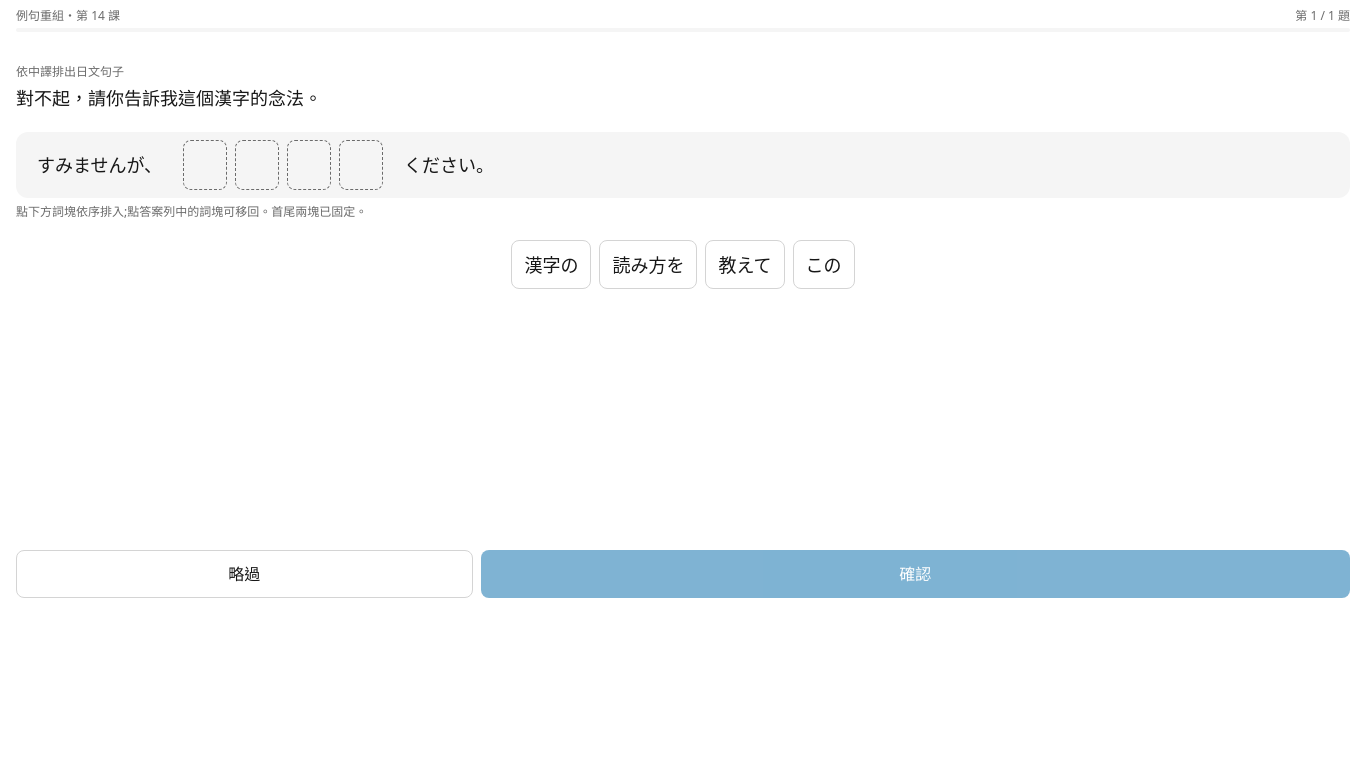
ReorderRunner 題目 › 6 塊以上:首尾兩塊固定在答案列兩端(不可點),只排中間
This screenshot has width=1366, height=768.
Expected: the text "對不起，請你告訴我這個漢字的念法。" is shown, left=16, top=86, right=322, bottom=110
Expected: the text "點下方詞塊依序排入;點答案列中的詞塊可移回。首尾兩塊已固定。" is shown, left=16, top=203, right=367, bottom=220
Click the button "この" at (824, 264), box left=792, top=240, right=854, bottom=289
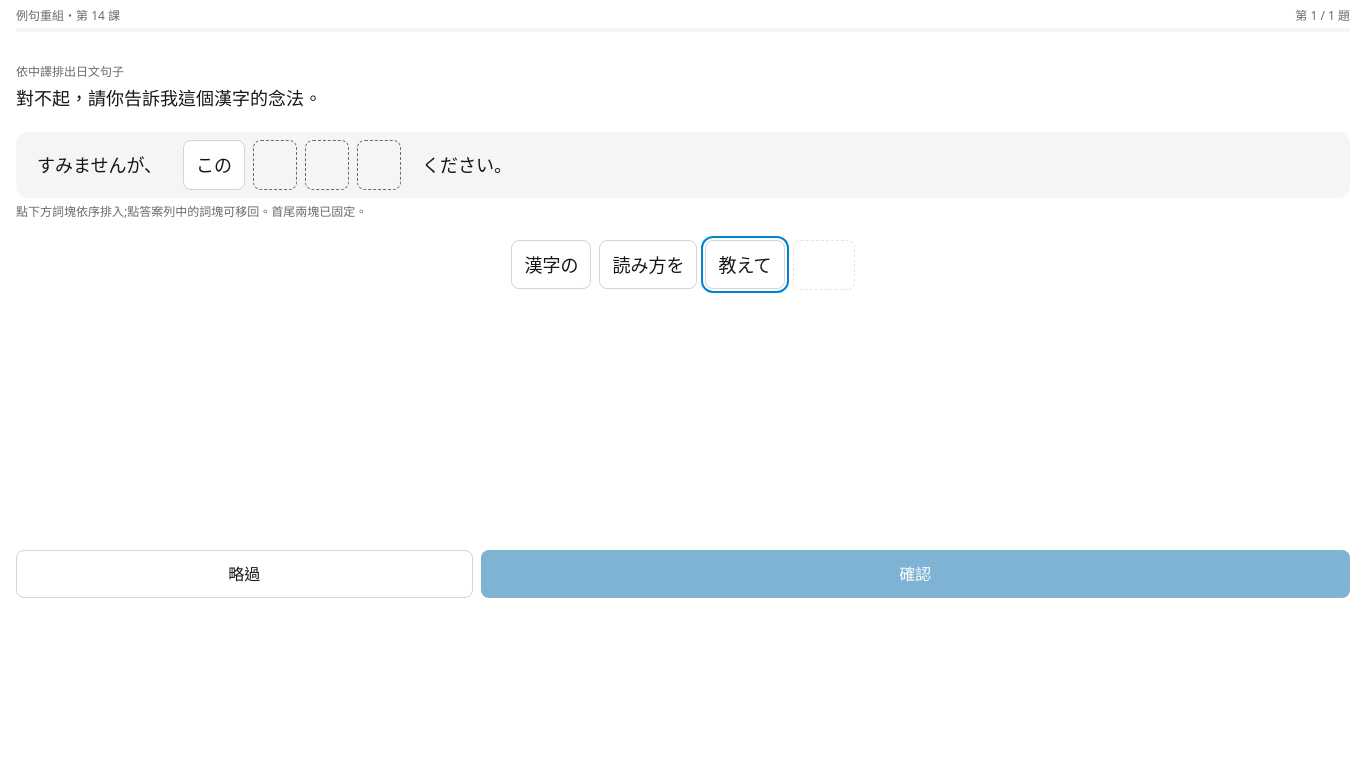
Click the button "漢字 の" at (551, 264), box left=511, top=240, right=591, bottom=289
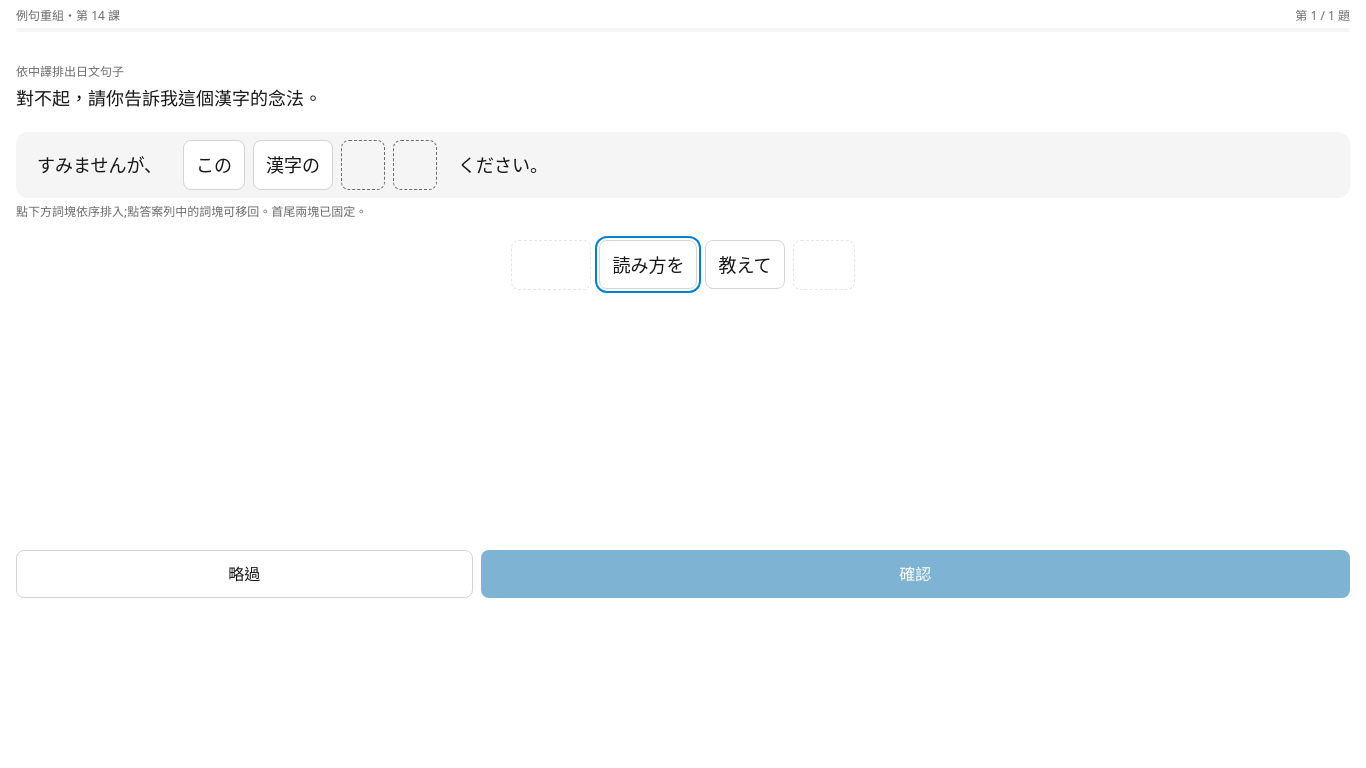
Click the button "読 み 方 を" at (648, 264), box left=599, top=240, right=697, bottom=289
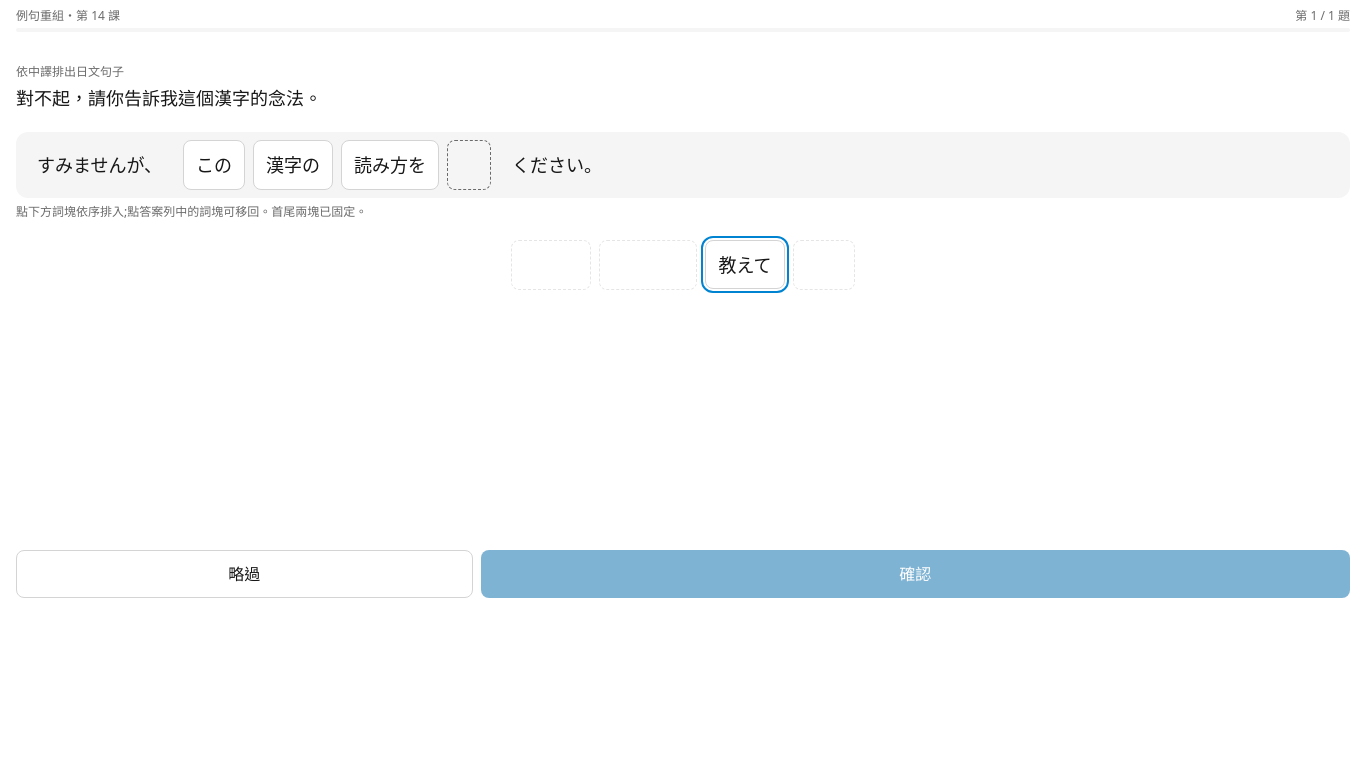
Click the button "教 えて" at (745, 264), box left=705, top=240, right=784, bottom=289
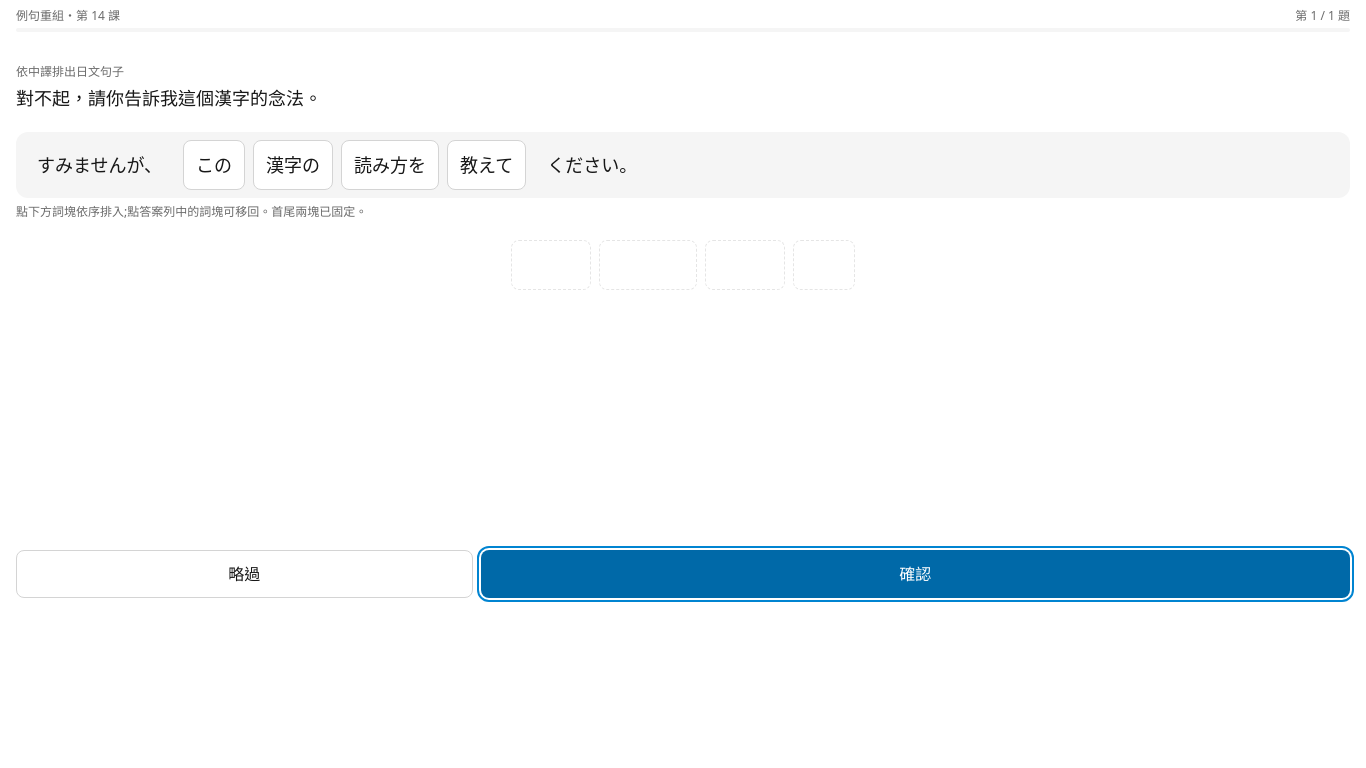
Click the button "確認" at (915, 574), box left=481, top=550, right=1350, bottom=598
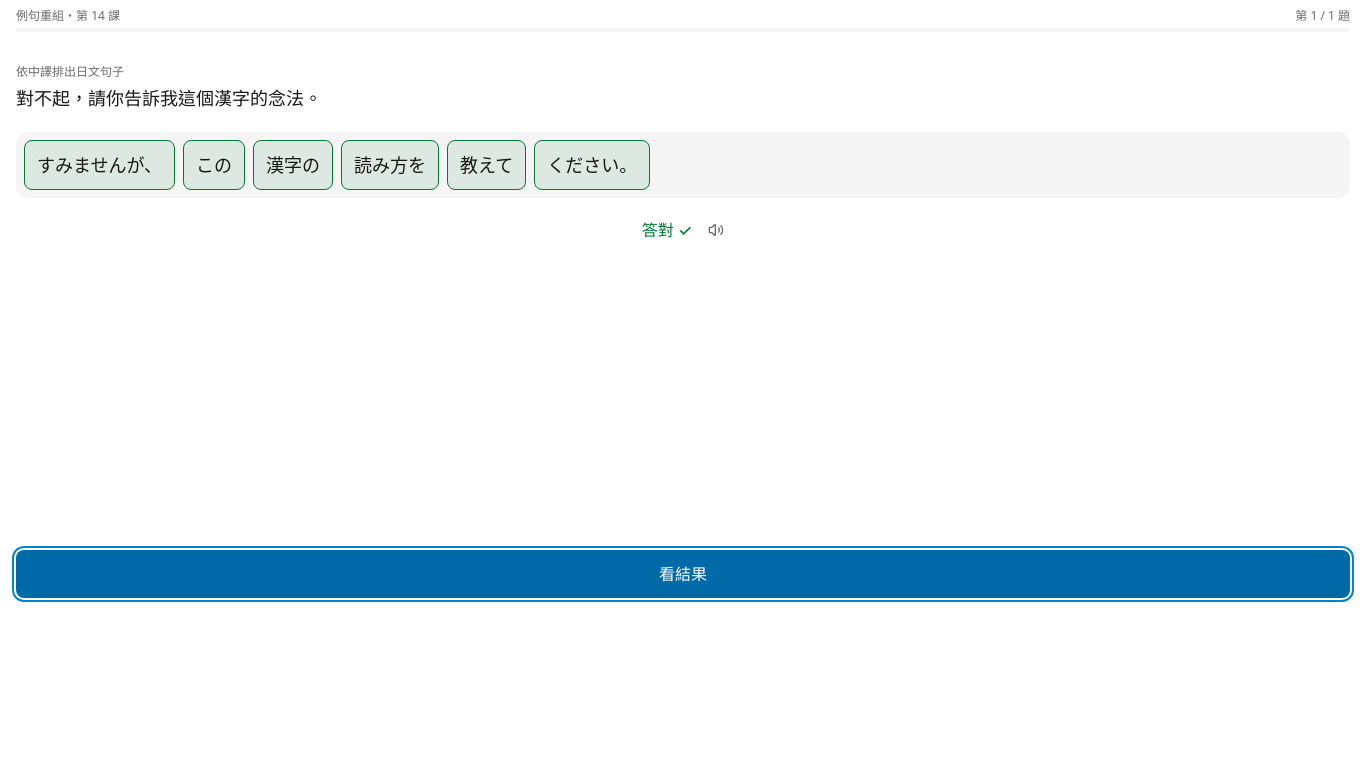
Expected: the text "答對 ✓" is shown, left=642, top=218, right=692, bottom=242
Expected: the button "看結果" is shown, left=16, top=550, right=1350, bottom=598
